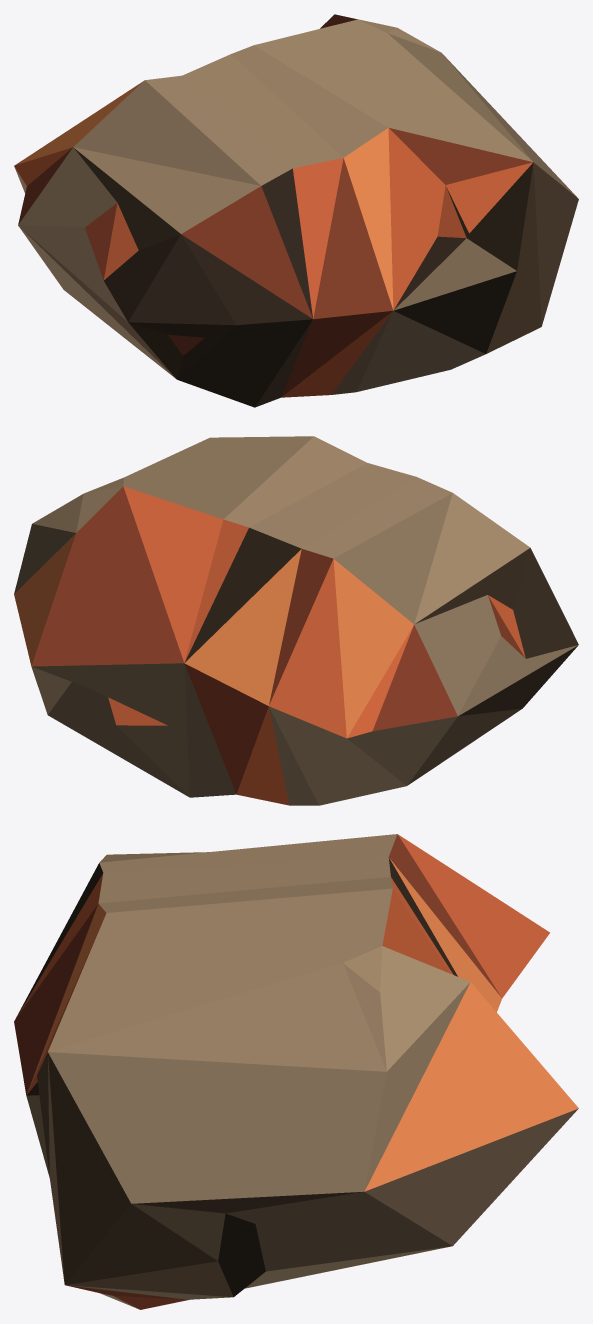
Rendered from IronOreRock.glb.
The picture shows the model from 3 angles, top to bottom: view 1: azimuth 30°, elevation 25°; view 2: azimuth 150°, elevation 25°; view 3: azimuth 270°, elevation 25°; orthographic projection. The views are drawn at different scales.
Visible parts, largest first — view 1: IronOreRock_ExportDarkBrown; view 2: IronOreRock_ExportDarkBrown; view 3: IronOreRock_ExportDarkBrown.
Part boxes in pixels (box(x1,y1,x2,y2)): IronOreRock_ExportDarkBrown: box(14, 14, 578, 407); IronOreRock_ExportDarkBrown: box(14, 436, 578, 805); IronOreRock_ExportDarkBrown: box(14, 834, 578, 1309).
Bounding box in the file's own units: 0.2701 × 0.1591 × 0.2236.
